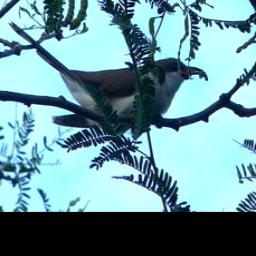Cuckoo: (3, 19, 207, 142)
